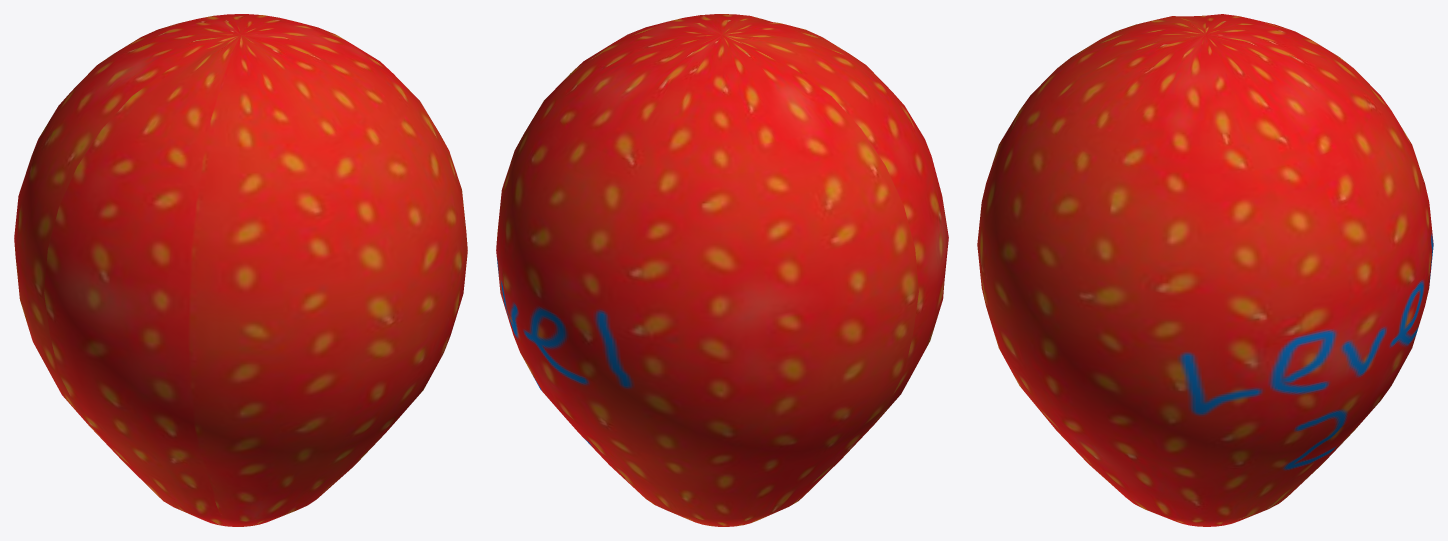
The model's file is strawb2.glb.
3 renders of one model, left to right at view 1: azimuth 30°, elevation 25°; view 2: azimuth 150°, elevation 25°; view 3: azimuth 270°, elevation 25°, orthographic.
Parts seen in each view (by area): view 1: Sphere; view 2: Sphere; view 3: Sphere.
Part boxes in pixels (x1,y1,x2,y2): Sphere: (14, 14, 467, 526); Sphere: (496, 14, 948, 526); Sphere: (977, 14, 1433, 526).
Size of the model in its own units: 2.02 by 2.34 by 2.02.
1 material, 1 textured.
